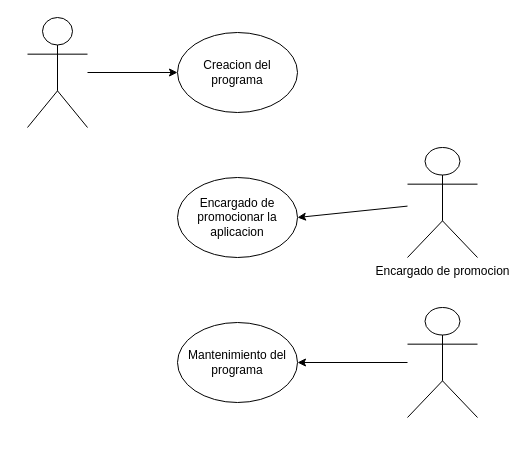
Some shapes in this 527 by 456 pixel diagram are drawn without their labels. The shapes that lost their labels are listed below. From the top down, each one's box as (x1, y1, x2, y2) in pixels, then its label:
(26, 16, 88, 128): Programador 1
(406, 306, 478, 418): Programador 2
